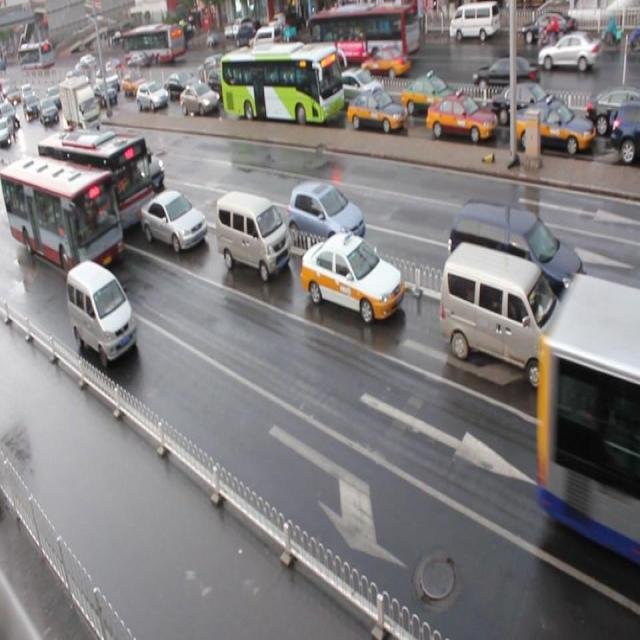car: (299, 229, 403, 321), (288, 181, 366, 258), (514, 99, 594, 159), (138, 187, 206, 252), (425, 92, 497, 144), (492, 82, 568, 128), (608, 330, 640, 434), (345, 87, 406, 133), (401, 74, 462, 118), (585, 89, 640, 136), (331, 63, 384, 106), (122, 142, 165, 194), (609, 99, 640, 161), (21, 159, 61, 204), (178, 80, 220, 116), (208, 68, 241, 104), (137, 81, 170, 112), (163, 72, 197, 100), (123, 70, 147, 95), (94, 82, 116, 108)
truck: (438, 240, 567, 388), (449, 198, 585, 320), (68, 259, 137, 369), (214, 187, 289, 281)
van: (538, 271, 640, 561), (0, 151, 126, 282), (37, 126, 154, 235), (216, 42, 339, 125)
